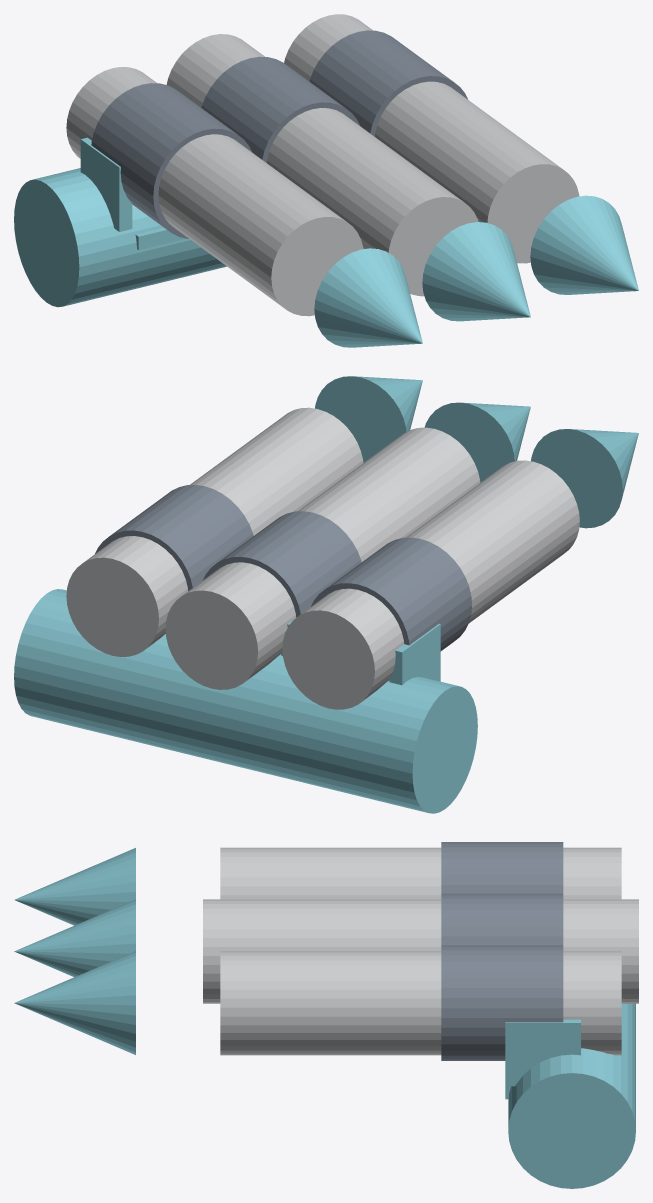
File: cmt-2.glb
3 renders of one model, top to bottom at view 1: azimuth 30°, elevation 25°; view 2: azimuth 150°, elevation 25°; view 3: azimuth 270°, elevation 25°, orthographic. The views are drawn at different scales.
Visible parts, largest first — view 1: part000, part007, part014, part021, part001, part009, part002, part016, part008, part015, part003, part004; view 2: part021, part000, part007, part014, part001, part008, part015, part002, part016, part009, part003; view 3: part014, part007, part021, part000, part015, part008, part016, part001, part002, part009, part019.
Boxes of the visible parts, x1,y1,x2,y2 form: part000: (66,67,363,316); part007: (166,34,478,296); part014: (284,14,579,263); part021: (14,168,226,307); part001: (91,83,252,238); part009: (422,222,530,321); part002: (314,248,422,347); part016: (530,195,638,294); part008: (201,56,359,162); part015: (309,30,467,136); part003: (80,137,132,231); part004: (135,227,185,250); part021: (14,589,477,813); part000: (282,460,579,709); part007: (165,427,480,689); part014: (66,407,363,656); part001: (311,537,472,651); part008: (203,511,361,617); part015: (95,485,253,590); part002: (531,429,638,528); part016: (315,376,422,462); part009: (424,402,530,482); part003: (389,623,440,685); part014: (220,951,621,1055); part007: (203,899,638,1003); part021: (508,1003,635,1188); part000: (220,847,621,899); part015: (441,945,563,1060); part008: (441,893,563,945); part016: (14,951,135,1054); part001: (441,842,563,893); part002: (14,848,135,925); part009: (14,899,135,977); part019: (505,1019,580,1086).
Bounding box in the file's own units: 1.55 × 0.74 × 2.15.
